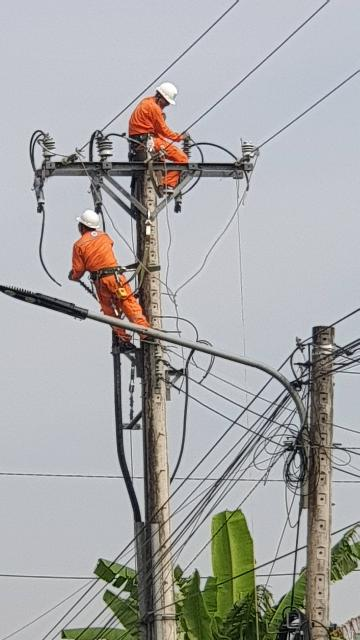harness: (89, 262, 140, 280), (124, 130, 163, 148)
helmet: (157, 81, 182, 106), (77, 208, 103, 229)
shoes: (115, 334, 140, 355), (160, 183, 176, 198)
